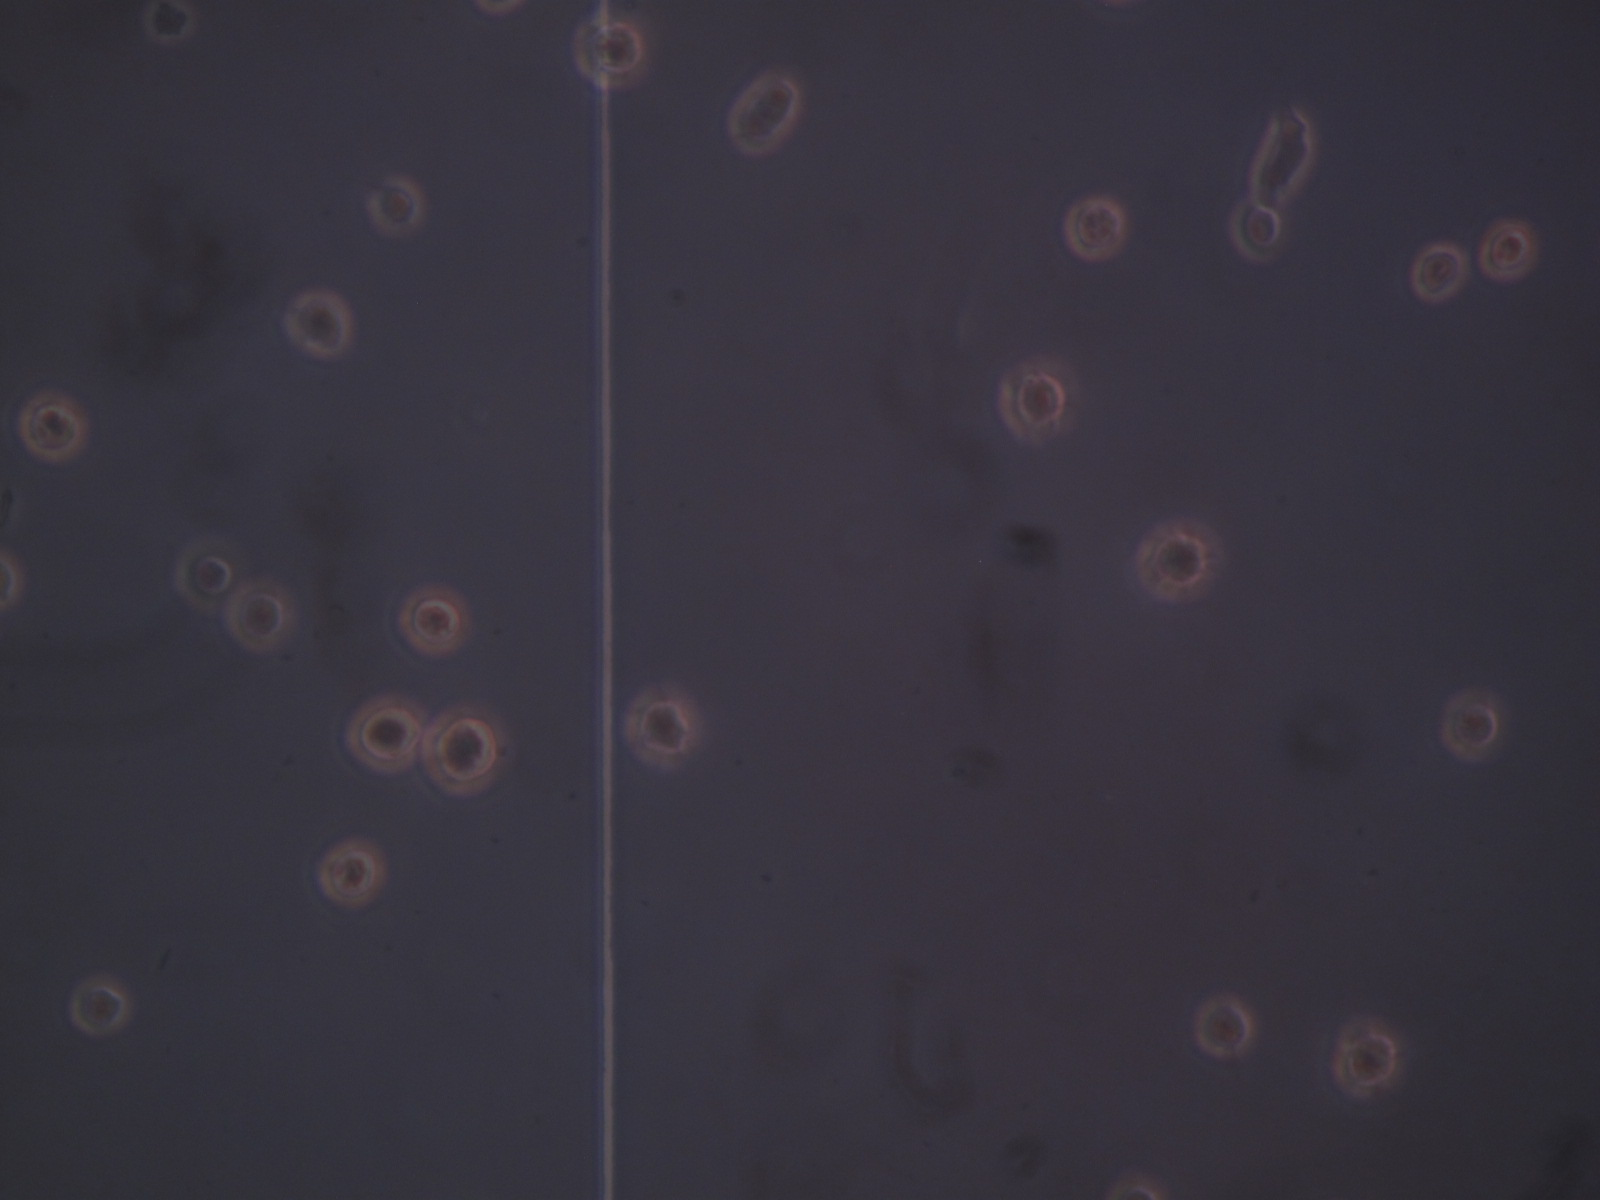hemo: (423, 703, 506, 795), (998, 355, 1078, 444), (344, 693, 426, 774), (1136, 519, 1216, 603), (625, 686, 699, 768), (727, 74, 799, 155), (572, 16, 648, 91), (1249, 113, 1313, 200), (397, 584, 470, 655), (226, 579, 296, 653), (317, 838, 387, 908), (1440, 689, 1504, 763), (283, 290, 351, 358), (1334, 1027, 1398, 1098), (18, 395, 84, 461), (174, 541, 234, 611), (1063, 197, 1126, 261), (1196, 998, 1254, 1058), (1230, 199, 1283, 263), (1480, 219, 1534, 281), (367, 176, 423, 234), (71, 979, 127, 1036), (1411, 243, 1465, 303), (144, 1, 194, 42), (1, 547, 19, 614)
